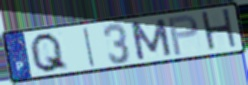3: (103, 22, 132, 66)
H: (199, 7, 240, 54)
I: (82, 25, 97, 69)
M: (128, 17, 174, 62)
P: (166, 13, 201, 58)
Q: (28, 31, 71, 75)
